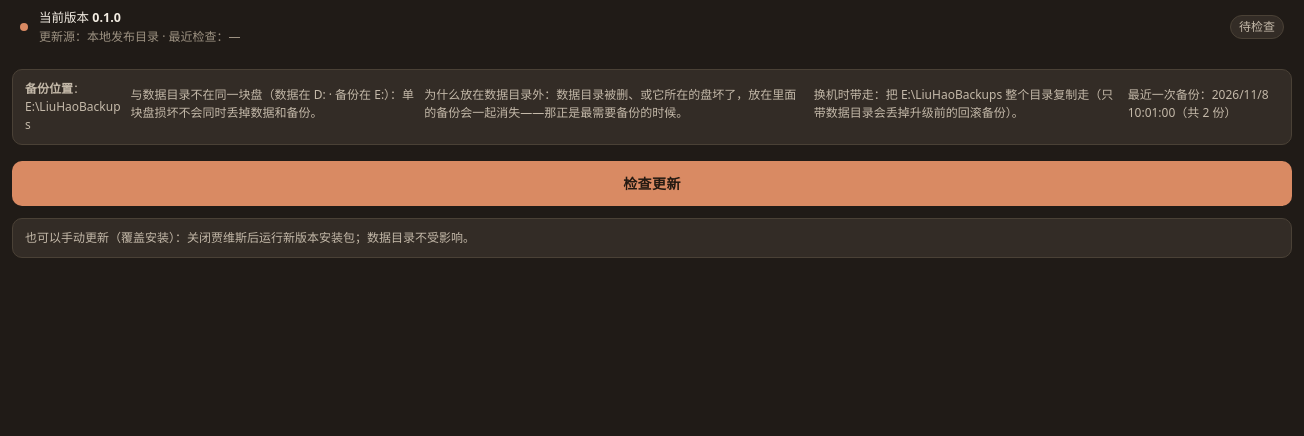
Test: 软件更新面板 › 检查到新版本后可以下载安装，并提示必须重启才生效
Check: the text "当前版本 0.1.0" is shown, box [39,9,121,26]
Click the button "检查更新". click: (652, 183)
box: [12,161,1292,206]
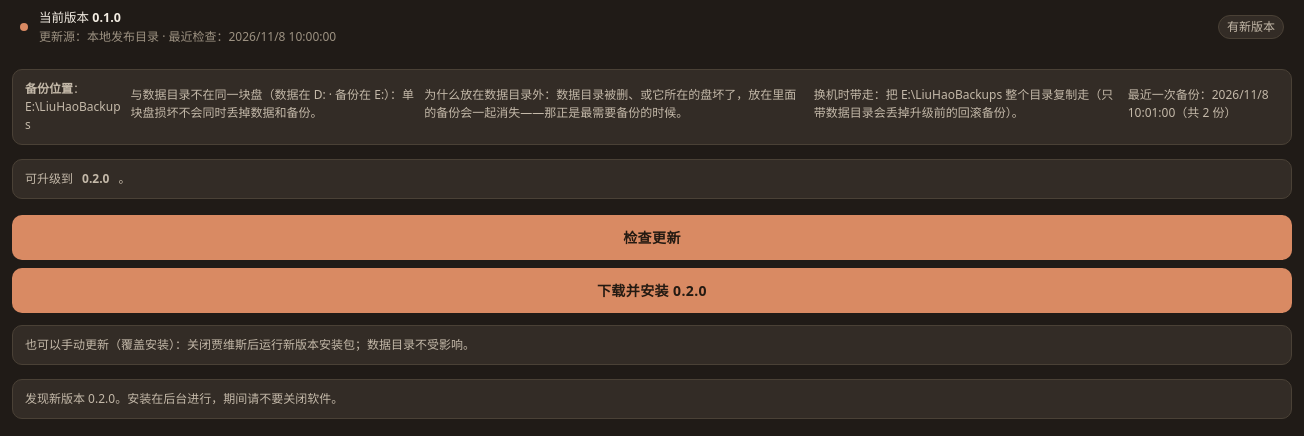
Check: the button "下载并安装 0.2.0" is shown
Click the button "下载并安装 0.2.0". click: (652, 290)
box: [12,268,1292,313]
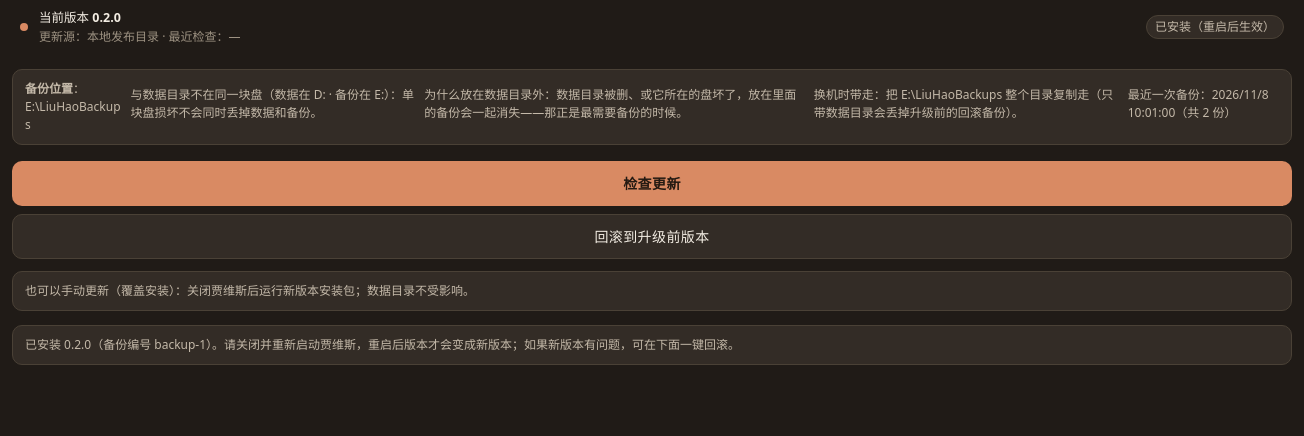
Check: the message shows "请关闭并重新启动", box [25,336,740,353]
